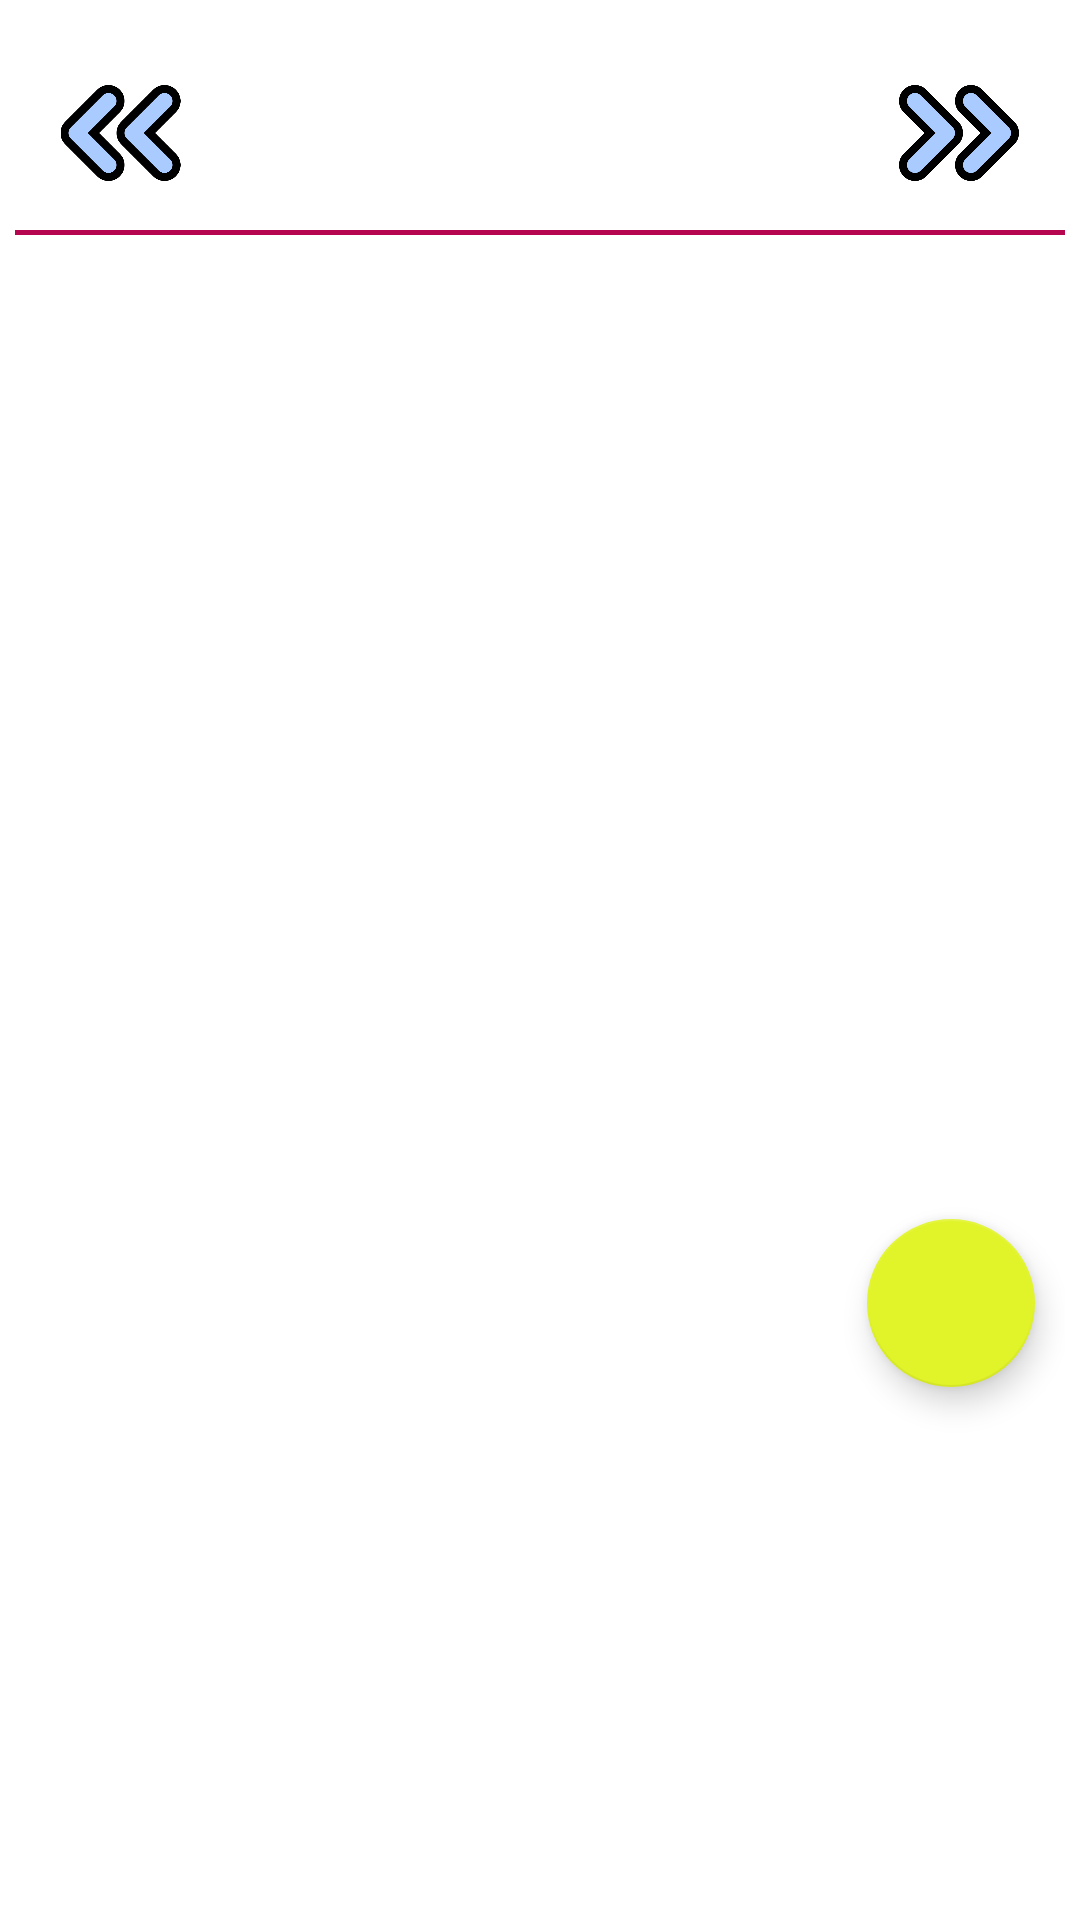

Screen size 1080*1920. Icon name, then its center in pixels as [x,y]:
next: [959,133]
previous: [121,133]
